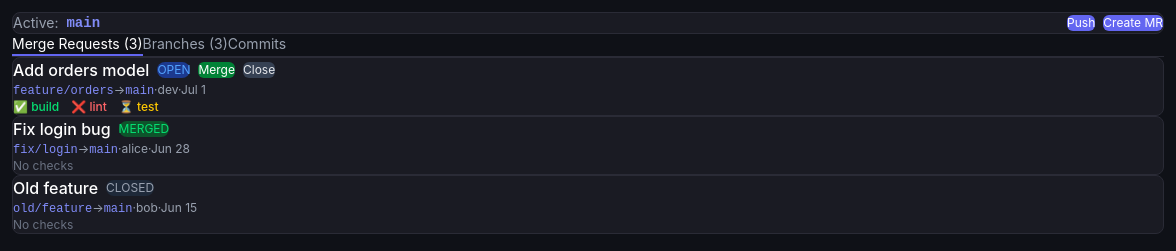
Test: GitPage › switches tab content when clicking branches tab
Expected: the button "Merge Requests (3)" is shown, [12,34,142,56]
What coordinates should you click on to do the following:
click the button "Branches (3)"
I would click on:
 (185, 45)
Its box is [142,34,228,56].
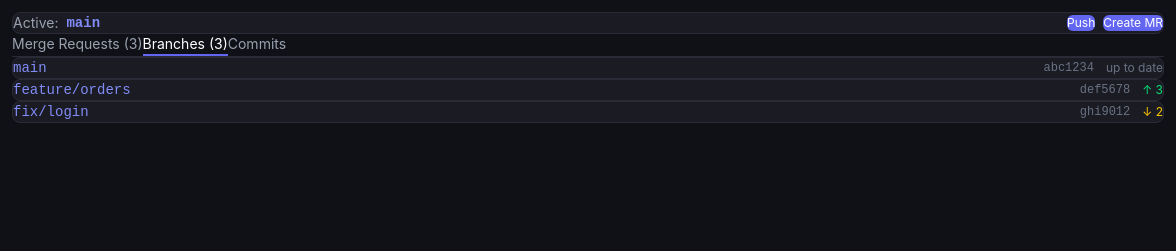
Expected: the text "feature/orders" is shown, [13,82,131,98]
Expected: the text "fix/login" is shown, [13,104,89,120]
